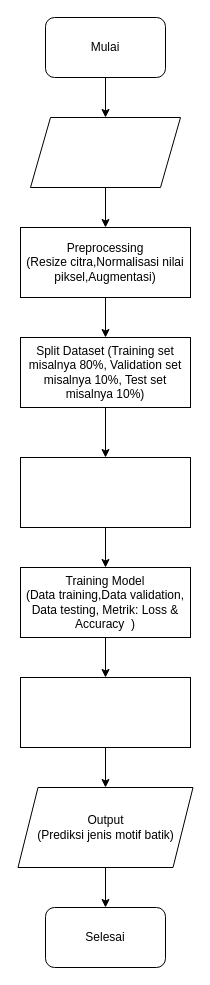
Some shapes in this 210 by 985 pixel diagram are drawn without their labels. The shapes that lost their labels are listed below. From the top down, each one's box as (x1, y1, x2, y2) in pixels, then its label:
(30, 116, 180, 188): Input Data Citra Batik
(20, 456, 190, 528): Model CNN (Sequential CNN Sederhana atau VGG 16 Menggunakan Transfer Learning)
(20, 676, 190, 748): Evaluasi (Akurasi, Precision, Recall, F1-Score, Confusion Matrix)
